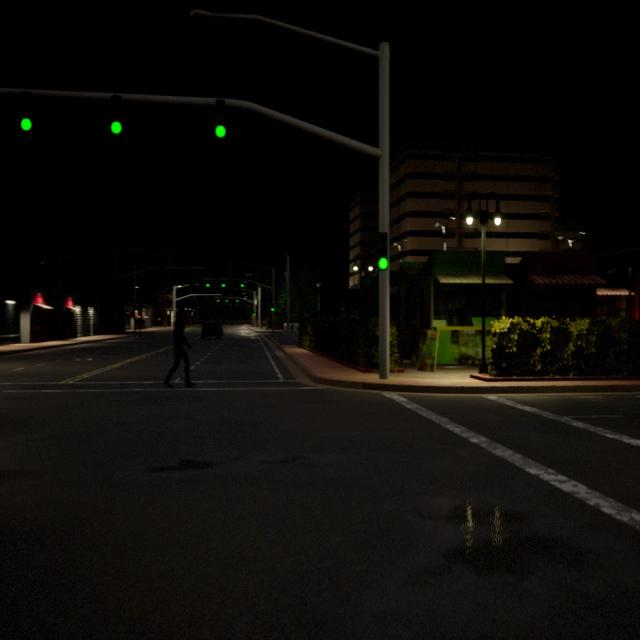Pedestrian: (163, 309, 195, 388)
Vehicle: (200, 320, 224, 342)
traffic_light: (109, 95, 123, 135), (214, 99, 227, 138), (20, 90, 32, 132), (378, 232, 388, 272), (270, 308, 276, 312), (222, 283, 226, 288), (206, 283, 210, 287), (253, 312, 256, 316), (240, 284, 244, 287), (216, 300, 220, 302), (236, 300, 239, 302), (226, 300, 228, 302)
